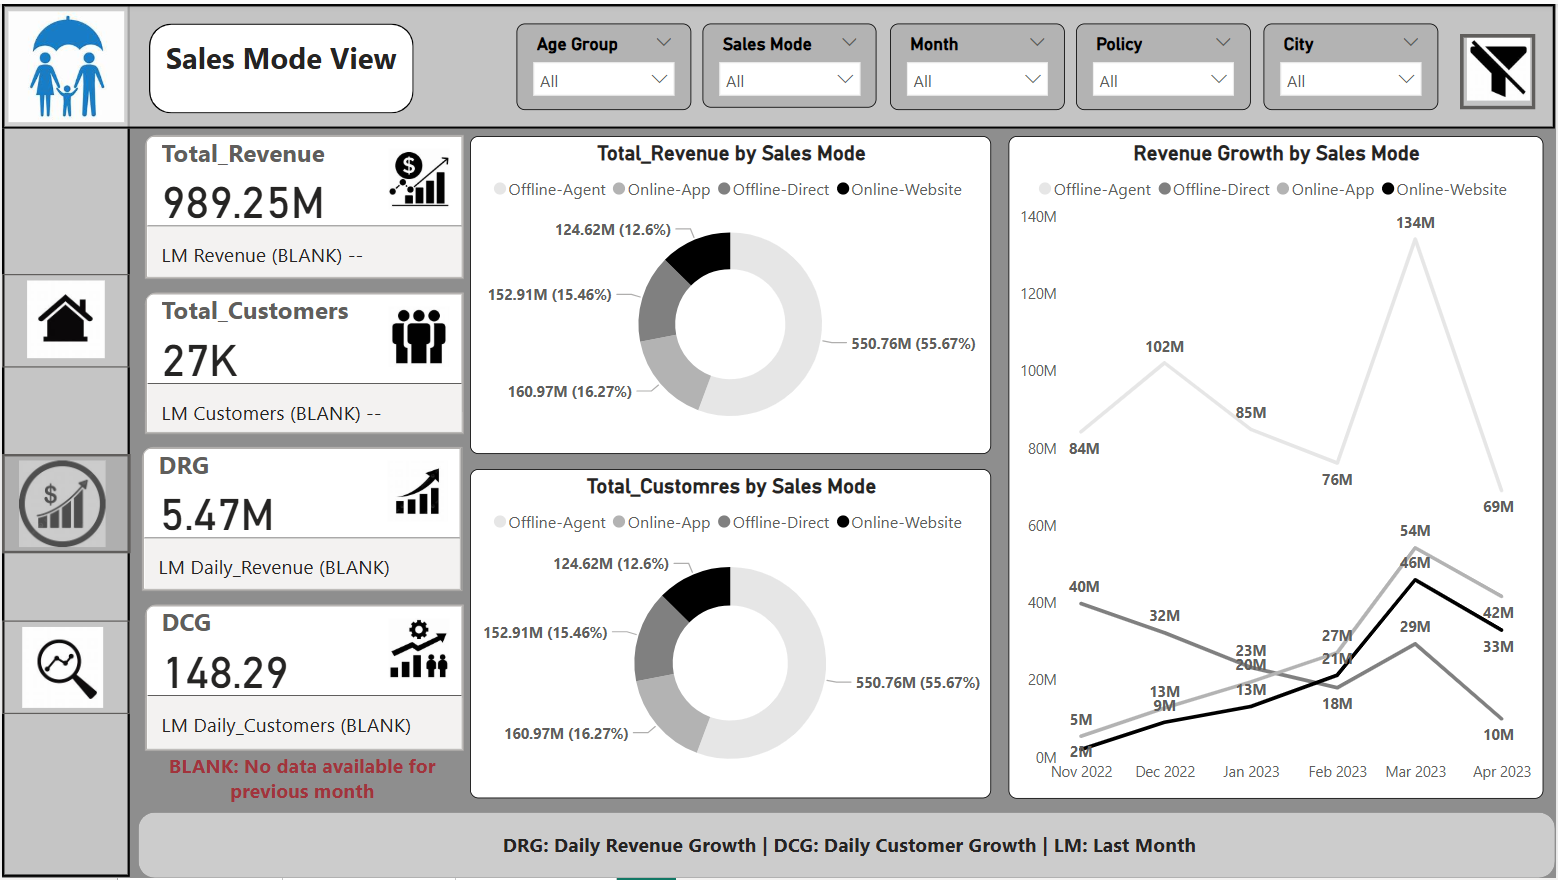

Layout of this report page (visuals, bound fields, positions):
{"tool":"powerbi","page":{"name":"Sales Analysis","canvas":[1280,720],"ordinal":1},"visuals":[{"type":"shape","box":[0,0,105.4,719.1],"z":0},{"type":"shape","box":[0,0,1279.5,103],"z":1000},{"type":"image","box":[0,0,105.4,102.7],"z":2000},{"type":"image","box":[0,223,105.4,74.3],"z":3000},{"type":"image","box":[0,371,99.9,81.8],"z":4000},{"type":"image","box":[0,508.2,100,77],"z":5000},{"type":"actionButton","box":[0,371,106,81.8],"z":6000},{"type":"actionButton","box":[0,223,105.4,77],"z":7000},{"type":"actionButton","box":[0,508.2,105.4,77],"z":8000},{"type":"slicer","fields":{"Values":["dim_customer.age_group"]},"box":[424,15.9,143.8,71.2],"z":9000},{"type":"slicer","fields":{"Values":["dim_policies.policy_id"]},"box":[885.1,16.3,143.8,71.2],"z":10000},{"type":"slicer","fields":{"Values":["fact_premiums.sales_mode"]},"box":[577.6,16.1,143.6,69.4],"z":11000},{"type":"slicer","fields":{"Values":["dim_date.mmm_yy"]},"box":[731.4,15.5,143.8,71.2],"z":12000},{"type":"slicer","fields":{"Values":["dim_customer.city"]},"box":[1038.7,16.7,143.8,71.2],"z":13000},{"type":"image","box":[1196.2,22.7,72.7,62.1],"z":14000},{"type":"shape","box":[121.1,16.7,218,74.2],"z":15000},{"type":"textbox","box":[121.6,22.1,217.9,63.2],"z":16000},{"type":"cardVisual","fields":{"Data":["Measure Table.Total_Revenue"]},"box":[112.1,102.6,273.2,129.5],"z":17000},{"type":"cardVisual","fields":{"Data":["Measure Table.Daily_Revenue"]},"box":[110.5,360,274.7,129.5],"z":18000},{"type":"cardVisual","fields":{"Data":["Measure Table.Daily_Customers"]},"box":[112.1,489.5,273.2,131.1],"z":19000},{"type":"cardVisual","fields":{"Data":["Measure Table.Total_Customers"]},"box":[112.1,232.1,273.2,127.9],"z":21000},{"type":"textbox","box":[99.5,611.1,301.6,55.3],"z":22000},{"type":"shape","box":[112.1,666.3,1166.9,53.7],"z":23000},{"type":"textbox","box":[121,676,1158.5,37.1],"z":24000},{"type":"actionButton","box":[1201.7,24.3,62.2,62.2],"z":25000},{"type":"donutChart","title":"Total_Revenue by Sales Mode","fields":{"Category":["fact_premiums.sales_mode"],"Y":["Measure Table.Total_Revenue"]},"box":[385.3,108.9,429.5,262.1],"z":26000},{"type":"donutChart","title":"Total_Customres by Sales Mode","fields":{"Category":["fact_premiums.sales_mode"],"Y":["Measure Table.Total_Revenue"]},"box":[385.3,383.7,429.5,271.6],"z":26001},{"type":"lineChart","title":"Revenue Growth by Sales Mode","fields":{"Y":["Measure Table.Total_Revenue"],"Series":["fact_premiums.sales_mode"],"Category":["dim_date.date.Variation.Date Hierarchy.Year","dim_date.date.Variation.Date Hierarchy.Quarter","dim_date.date.Variation.Date Hierarchy.Month"]},"box":[829,108.9,440.5,546.3],"z":26002}]}

Visuals, with their boxes in screenshot pixels (x1, y1, x2, y2), scaled from the page's 1280x720 canvas onto the 1558x880 screenshot:
shape: locate(0, 0, 128, 879)
shape: locate(0, 0, 1557, 126)
image: locate(0, 0, 128, 126)
image: locate(0, 273, 128, 363)
image: locate(0, 453, 122, 553)
image: locate(0, 621, 122, 715)
actionButton: locate(0, 453, 129, 553)
actionButton: locate(0, 273, 128, 367)
actionButton: locate(0, 621, 128, 715)
slicer - dim_customer.age_group: locate(516, 19, 691, 106)
slicer - dim_policies.policy_id: locate(1077, 20, 1252, 107)
slicer - fact_premiums.sales_mode: locate(703, 20, 878, 105)
slicer - dim_date.mmm_yy: locate(890, 19, 1065, 106)
slicer - dim_customer.city: locate(1264, 20, 1439, 107)
image: locate(1456, 28, 1544, 104)
shape: locate(147, 20, 413, 111)
textbox: locate(148, 27, 413, 104)
cardVisual - Measure Table.Total_Revenue: locate(136, 125, 469, 284)
cardVisual - Measure Table.Daily_Revenue: locate(134, 440, 469, 598)
cardVisual - Measure Table.Daily_Customers: locate(136, 598, 469, 759)
cardVisual - Measure Table.Total_Customers: locate(136, 284, 469, 440)
textbox: locate(121, 747, 488, 814)
shape: locate(136, 814, 1557, 879)
textbox: locate(147, 826, 1557, 872)
actionButton: locate(1463, 30, 1538, 106)
"Total_Revenue by Sales Mode" donutChart: locate(469, 133, 992, 453)
"Total_Customres by Sales Mode" donutChart: locate(469, 469, 992, 801)
"Revenue Growth by Sales Mode" lineChart: locate(1009, 133, 1545, 801)
